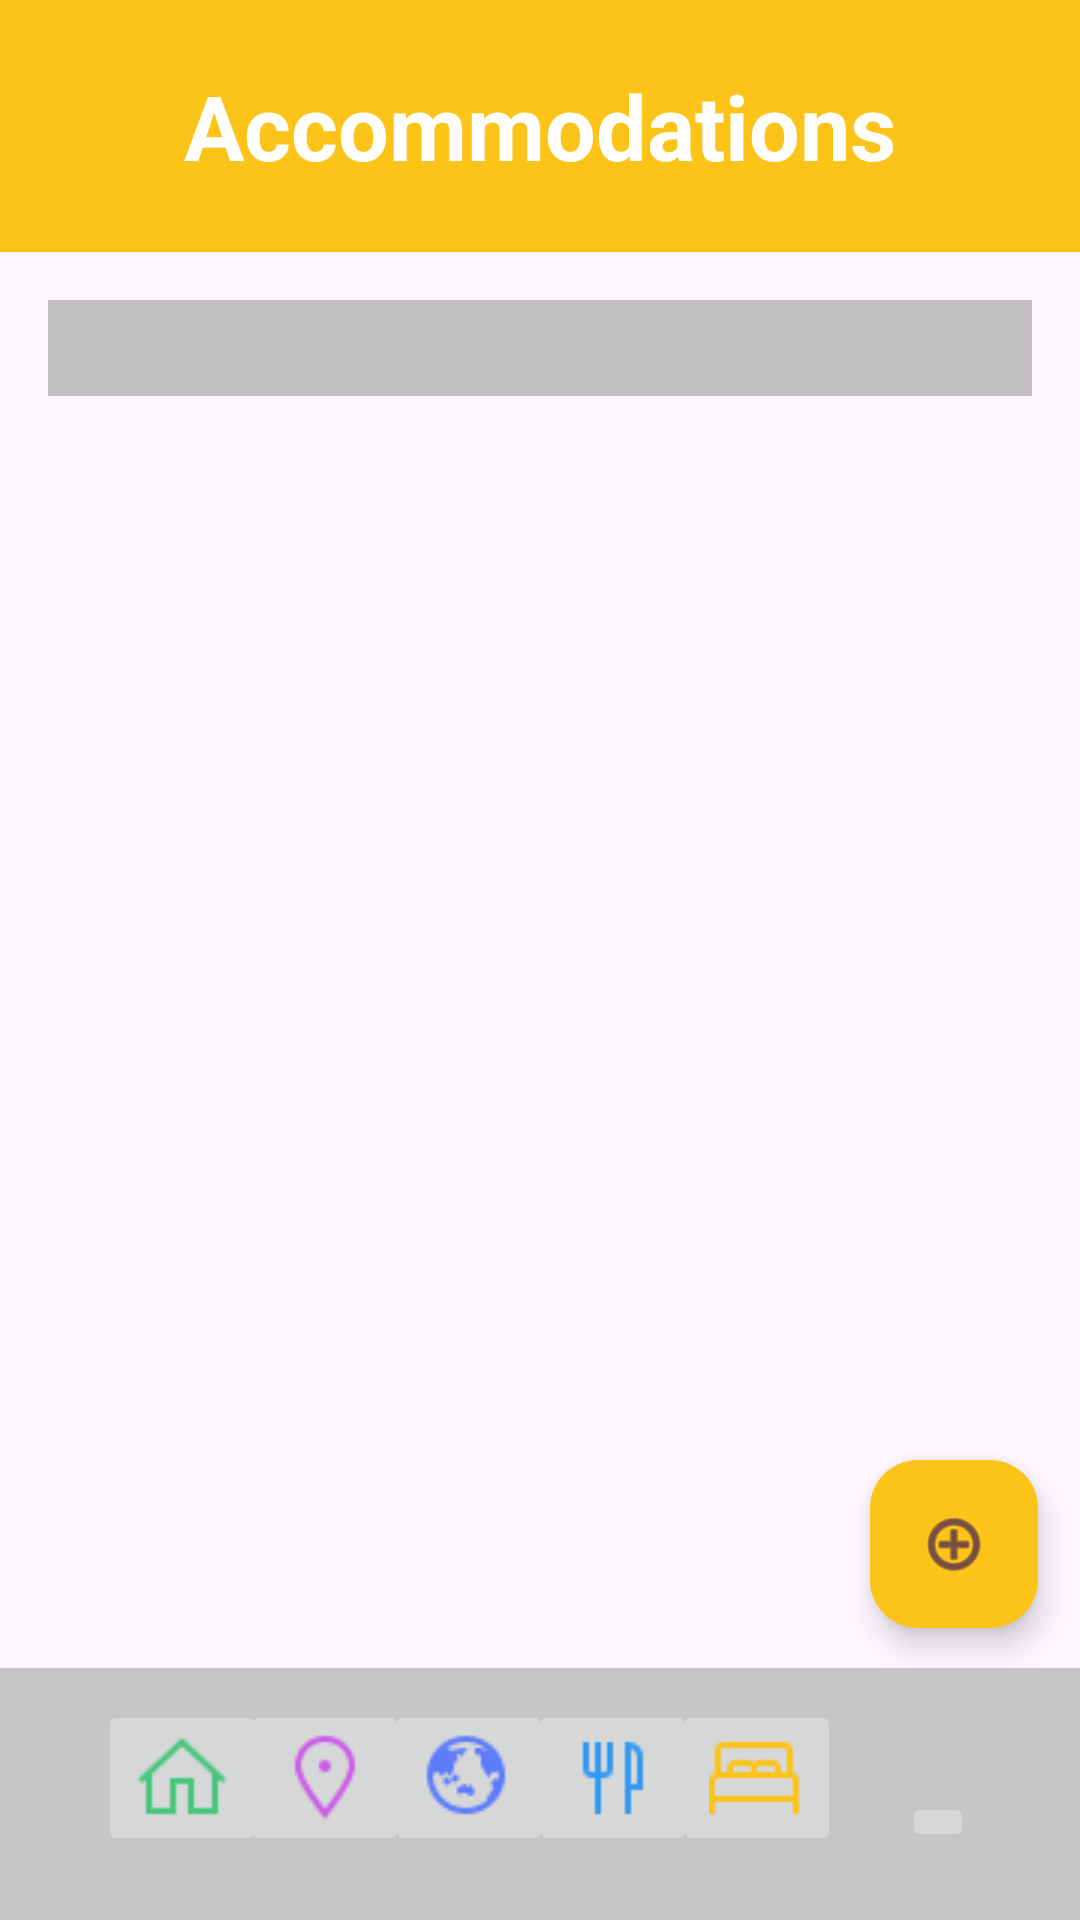

Locate icon controls on the screen. Image size 1080 x 1920, boxes as box=[x1, y1, x2, y2].
accommodations: box=[673, 1718, 829, 1838]
add: box=[870, 1460, 1038, 1628]
dining: box=[529, 1718, 697, 1838]
home: box=[110, 1718, 266, 1838]
